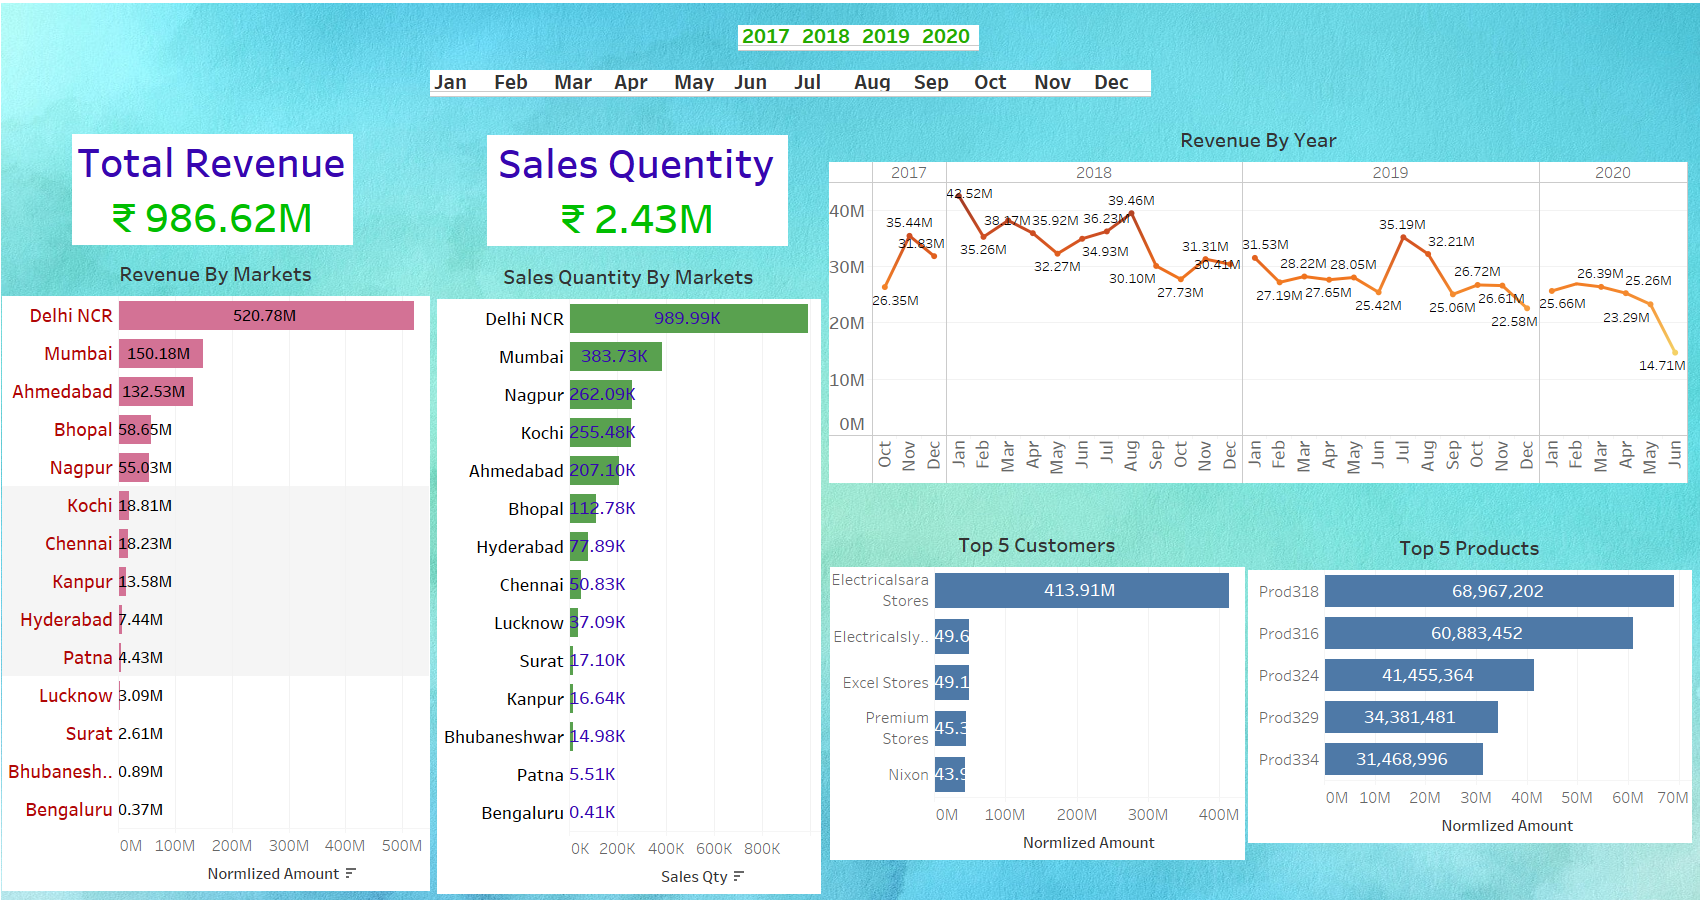

The dashboard page shown, as its layout file describes it:
{"tool":"tableau","page":{"name":"Dashboard 1","canvas":[1700,900],"ordinal":0},"visuals":[{"type":"worksheet","title":"Year","mark":"Automatic","cols":["cy_date"],"box":[738.3,10,296.3,45]},{"type":"worksheet","title":"Month","mark":"Automatic","cols":["cy_date"],"box":[429.9,55,892.5,47]},{"type":"worksheet","title":"Revenue","mark":"Automatic","box":[72.2,119,353.8,135]},{"type":"worksheet","title":"Revenue By Year","mark":"Automatic","rows":["Calculation_1129559134934433792"],"cols":["cy_date","cy_date"],"box":[829,119,859,365]},{"type":"worksheet","title":"Quantity","mark":"Automatic","box":[487,120,327,133]},{"type":"worksheet","title":"Revenue By Markets","mark":"Automatic","rows":["markets_name"],"cols":["Calculation_1129559134934433792"],"box":[2.1,253,427.1,645]},{"type":"worksheet","title":"Sales Quantity By Markets","mark":"Automatic","rows":["markets_name"],"cols":["sales_qty"],"box":[437,256,383,646]},{"type":"worksheet","title":"Top 5 Customers","mark":"Automatic","rows":["custmer_name"],"cols":["Calculation_1129559134934433792"],"box":[830,524,414,346]},{"type":"worksheet","title":"Top 5 Products","mark":"Automatic","rows":["product_code"],"cols":["Calculation_1129559134934433792"],"box":[1248,527,443,318]}]}

Visuals, with their boxes in screenshot pixels (x1, y1, x2, y2), scaled from the page's 1700x900 canvas onto the 1700x900 screenshot:
"Year" worksheet: 738 10 1035 55
"Month" worksheet: 430 55 1322 102
"Revenue" worksheet: 72 119 426 254
"Revenue By Year" worksheet: 829 119 1688 484
"Quantity" worksheet: 487 120 814 253
"Revenue By Markets" worksheet: 2 253 429 898
"Sales Quantity By Markets" worksheet: 437 256 820 899
"Top 5 Customers" worksheet: 830 524 1244 870
"Top 5 Products" worksheet: 1248 527 1691 845
